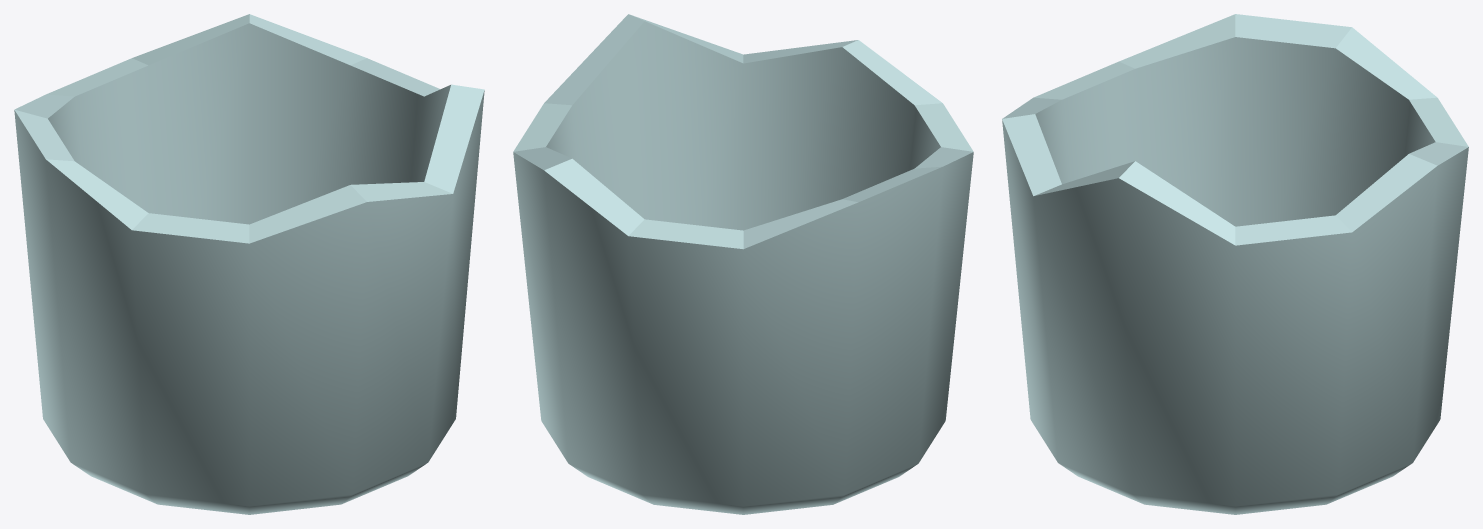
File: ShotglassBroken.fbx
3 renders of one model, left to right at view 1: azimuth 30°, elevation 25°; view 2: azimuth 150°, elevation 25°; view 3: azimuth 270°, elevation 25°, orthographic. The views are drawn at different scales.
Visible parts, largest first — view 1: ShotglassBroken; view 2: ShotglassBroken; view 3: ShotglassBroken.
Part boxes in pixels (x1=…): ShotglassBroken: x1=14, y1=14, x2=484, y2=514; ShotglassBroken: x1=513, y1=14, x2=973, y2=514; ShotglassBroken: x1=1002, y1=14, x2=1468, y2=514.
Bounding box in the file's own units: 0.0453 × 0.0375 × 0.0453.
